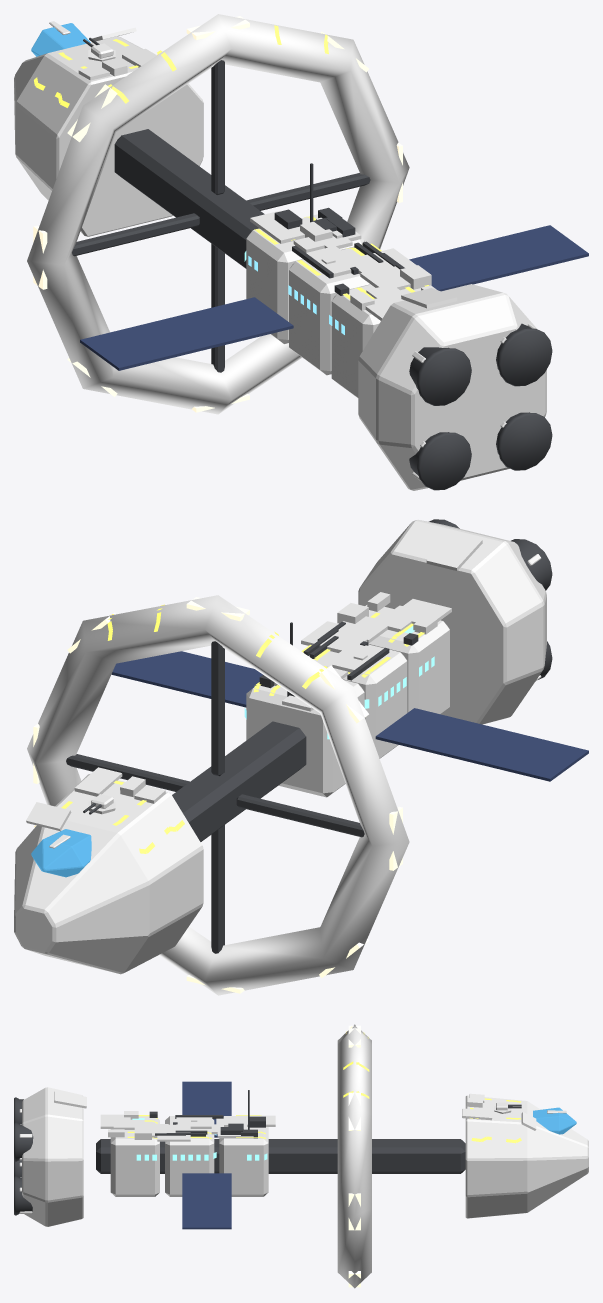
File: kovcheg.glb
3 views of the same model, one above another, from view 1: azimuth 30°, elevation 25°; view 2: azimuth 150°, elevation 25°; view 3: azimuth 270°, elevation 25° (orthographic). The views are drawn at different scales.
Visible parts, largest first — view 1: Жилое_кольцо, Корма, Нос, Ось, Накладные_плиты, Солнечная_панель.001, Солнечная_панель, Грузовой_блок.001, Грузовой_блок, Грузовой_блок.002, Кожух_дюзы.001, Кожух_дюзы.003 (+9 smaller); view 2: Жилое_кольцо, Нос, Корма, Накладные_плиты, Ось, Солнечная_панель.001, Грузовой_блок, Солнечная_панель, Грузовой_блок.002, Грузовой_блок.001, Кабина, Спица.001 (+6 smaller); view 3: Нос, Жилое_кольцо, Корма, Ось, Накладные_плиты, Грузовой_блок.002, Солнечная_панель, Грузовой_блок, Грузовой_блок.001, Солнечная_панель.001, Механика, Кабина (+4 smaller).
Boxes of the visible parts, x1,y1,x2,y2 form: Жилое_кольцо: (27, 14, 409, 414); Корма: (358, 284, 546, 490); Нос: (14, 36, 203, 236); Ось: (114, 129, 264, 268); Накладные_плиты: (78, 27, 457, 320); Солнечная_панель.001: (80, 297, 293, 370); Солнечная_панель: (409, 225, 588, 291); Грузовой_блок.001: (289, 245, 370, 375); Грузовой_блок: (246, 214, 364, 343); Грузовой_блок.002: (331, 284, 420, 397); Кожух_дюзы.001: (409, 347, 471, 405); Кожух_дюзы.003: (409, 432, 471, 490); Жилое_кольцо: (27, 595, 409, 995); Нос: (14, 774, 203, 974); Корма: (358, 519, 546, 724); Накладные_плиты: (26, 532, 482, 831); Ось: (172, 721, 306, 841); Солнечная_панель.001: (375, 708, 588, 781); Грузовой_блок: (246, 680, 364, 797); Солнечная_панель: (111, 651, 262, 707); Грузовой_блок.002: (365, 605, 449, 714); Грузовой_блок.001: (308, 644, 407, 758); Кабина: (31, 829, 91, 877); Спица.001: (211, 641, 224, 776); Нос: (465, 1095, 588, 1218); Жилое_кольцо: (337, 1024, 371, 1288); Корма: (22, 1087, 83, 1226); Ось: (96, 1139, 465, 1173); Накладные_плиты: (54, 1091, 536, 1141); Грузовой_блок.002: (110, 1116, 159, 1196); Солнечная_панель: (182, 1173, 231, 1229); Грузовой_блок: (219, 1116, 268, 1196); Грузовой_блок.001: (165, 1116, 214, 1196); Солнечная_панель.001: (182, 1081, 231, 1137); Механика: (149, 1090, 265, 1138); Кабина: (533, 1107, 576, 1134).
Size of the model in its own units: 1.4 by 1.14 by 2.33.
